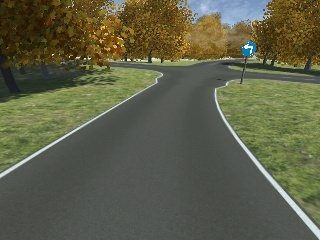TLeft: (240, 42, 255, 57)
